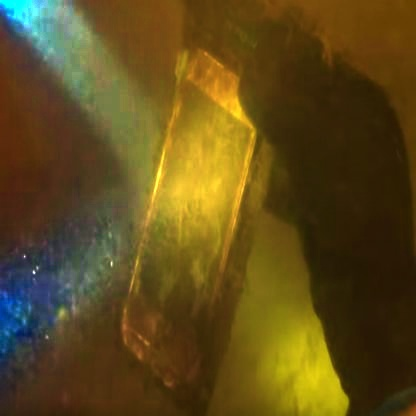cellphone: (117, 42, 261, 396)
